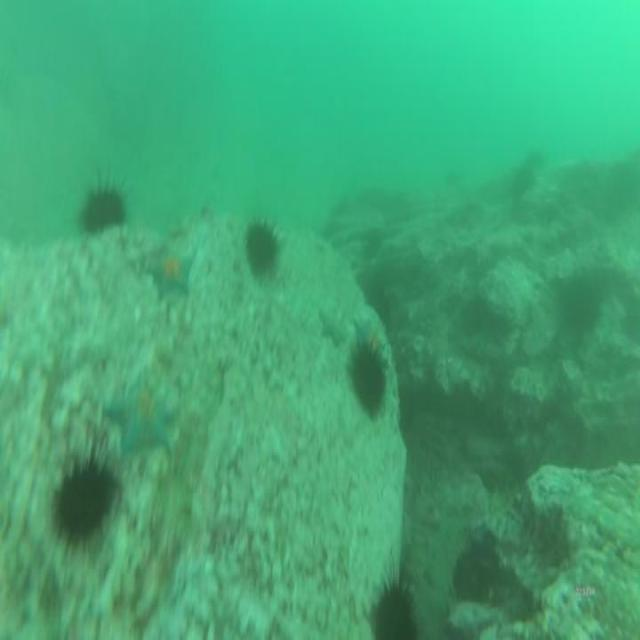echinus: (57, 468, 113, 544), (348, 341, 388, 414), (452, 537, 495, 602), (376, 588, 412, 640), (82, 186, 126, 228), (246, 218, 275, 273), (85, 460, 87, 464)
starfish: (106, 370, 176, 449), (150, 245, 190, 292)
